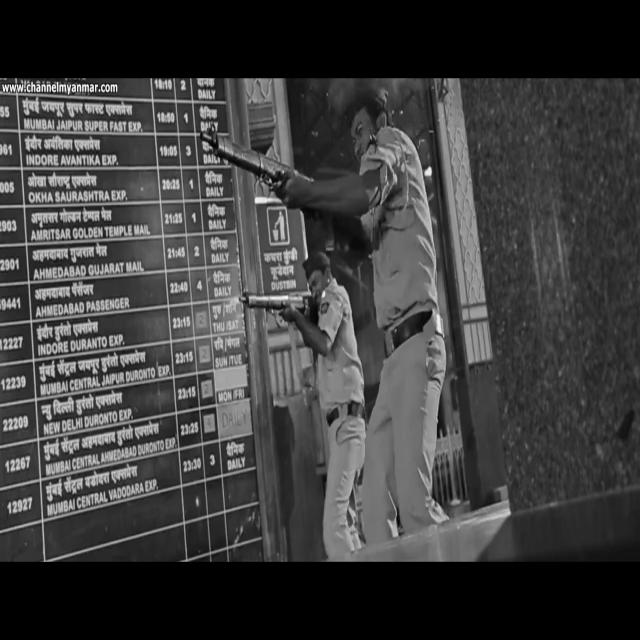gun: (199, 124, 365, 254), (238, 291, 318, 323)
